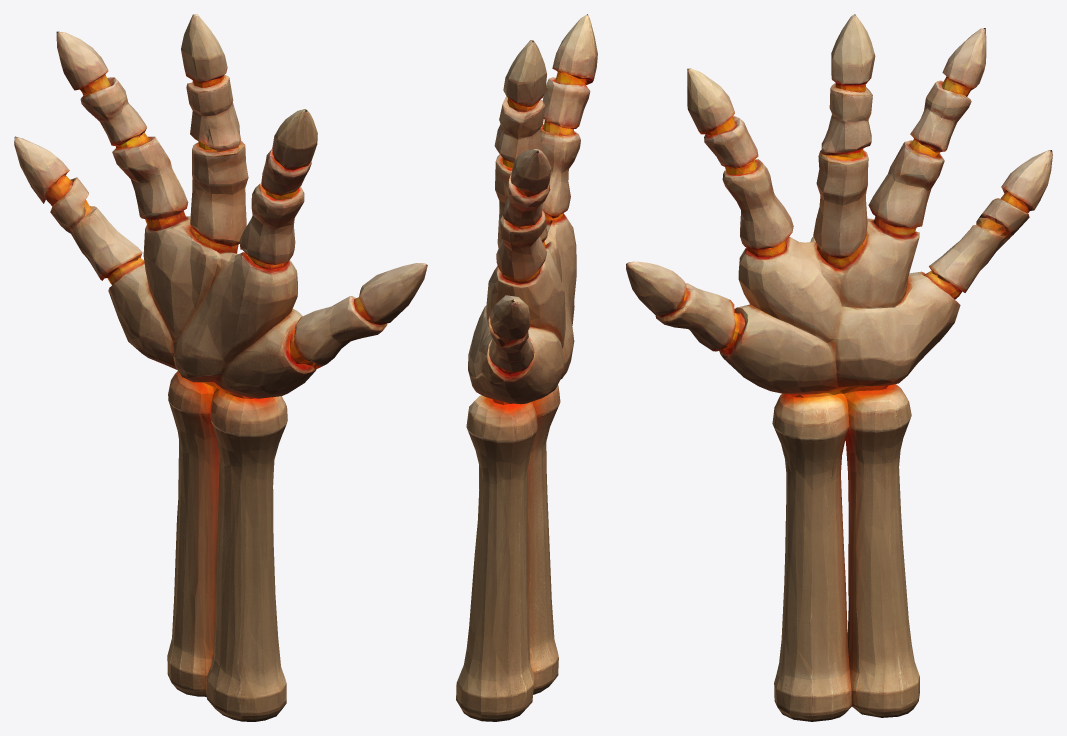
Rendered from hand.glb.
The picture shows the model from 3 angles, left to right: view 1: azimuth 30°, elevation 25°; view 2: azimuth 150°, elevation 25°; view 3: azimuth 270°, elevation 25°; orthographic projection. The views are drawn at different scales.
Parts seen in each view (by area): view 1: world; view 2: world; view 3: world.
Part boxes in pixels (<box>): world: <box>14,14,427,721</box>; world: <box>456,14,597,721</box>; world: <box>626,14,1052,721</box>.
Bounding box in the file's own units: 0.3046 × 0.9954 × 0.5645.
1 material, 1 textured.
